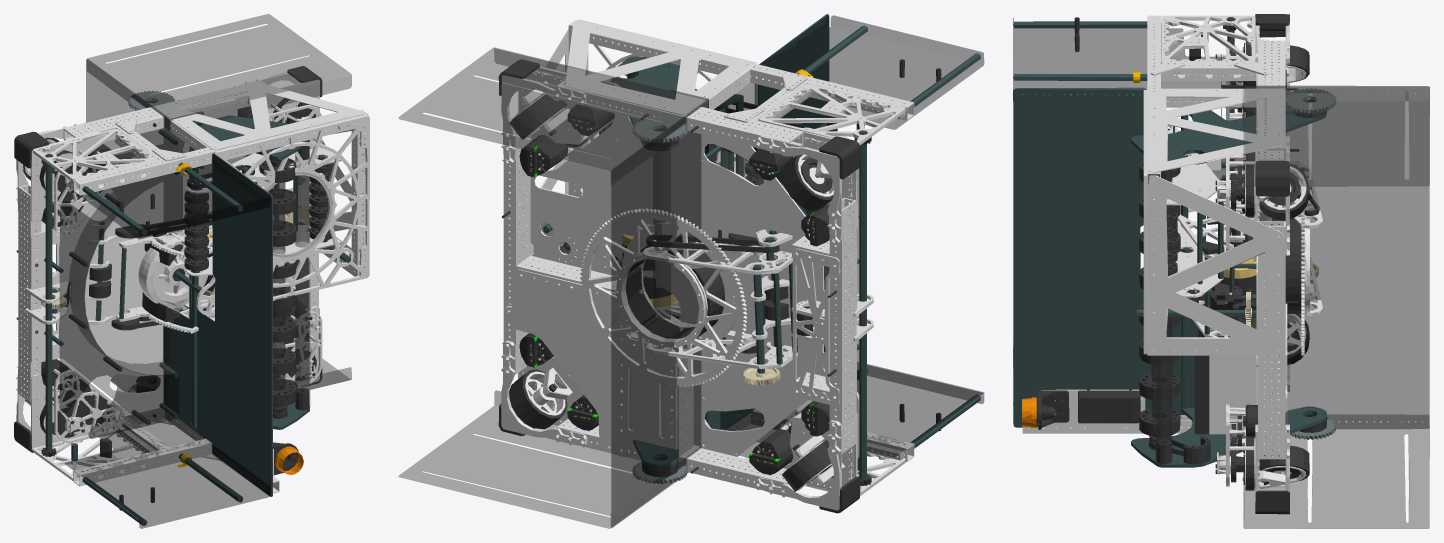
3 views of the same model, side by side, from view 1: azimuth 30°, elevation 25°; view 2: azimuth 150°, elevation 25°; view 3: azimuth 270°, elevation 25° (orthographic). The views are drawn at different scales.
Visible parts, largest first — view 1: main_mesh, c3_mesh, c2_mesh, c0_mesh, c1_mesh; view 2: main_mesh, c3_mesh, c0_mesh, c1_mesh, c2_mesh; view 3: main_mesh, c3_mesh, c2_mesh, c0_mesh, c1_mesh.
Part boxes in pixels (bbox=[...]): main_mesh: bbox=[14, 66, 369, 528]; c3_mesh: bbox=[86, 14, 351, 424]; c2_mesh: bbox=[128, 91, 309, 429]; c0_mesh: bbox=[111, 214, 215, 333]; c1_mesh: bbox=[69, 221, 118, 324]; main_mesh: bbox=[498, 14, 984, 513]; c3_mesh: bbox=[399, 47, 708, 528]; c0_mesh: bbox=[580, 208, 757, 387]; c1_mesh: bbox=[643, 229, 797, 385]; c2_mesh: bbox=[611, 56, 743, 484]; main_mesh: bbox=[1013, 14, 1309, 514]; c3_mesh: bbox=[1242, 86, 1429, 528]; c2_mesh: bbox=[1131, 88, 1336, 467]; c0_mesh: bbox=[1177, 199, 1309, 355]; c1_mesh: bbox=[1282, 161, 1322, 316].
Bounding box in the file's own units: 0.755 × 0.6985 × 0.7644.
